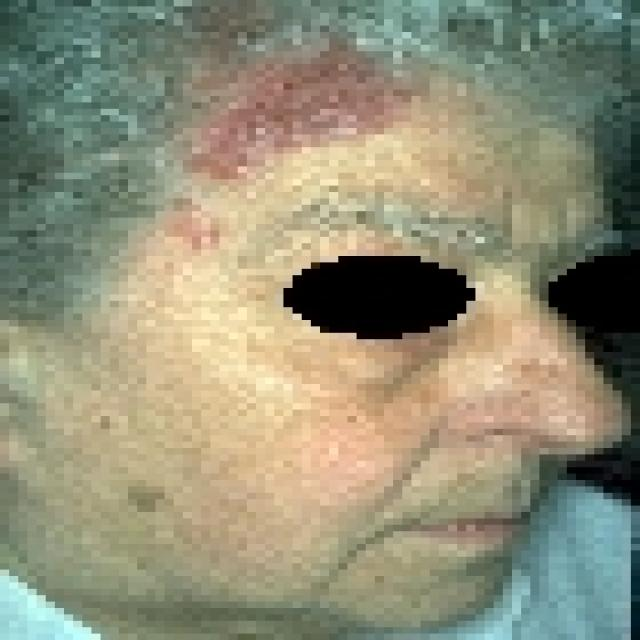lupus: (167, 31, 391, 233)
